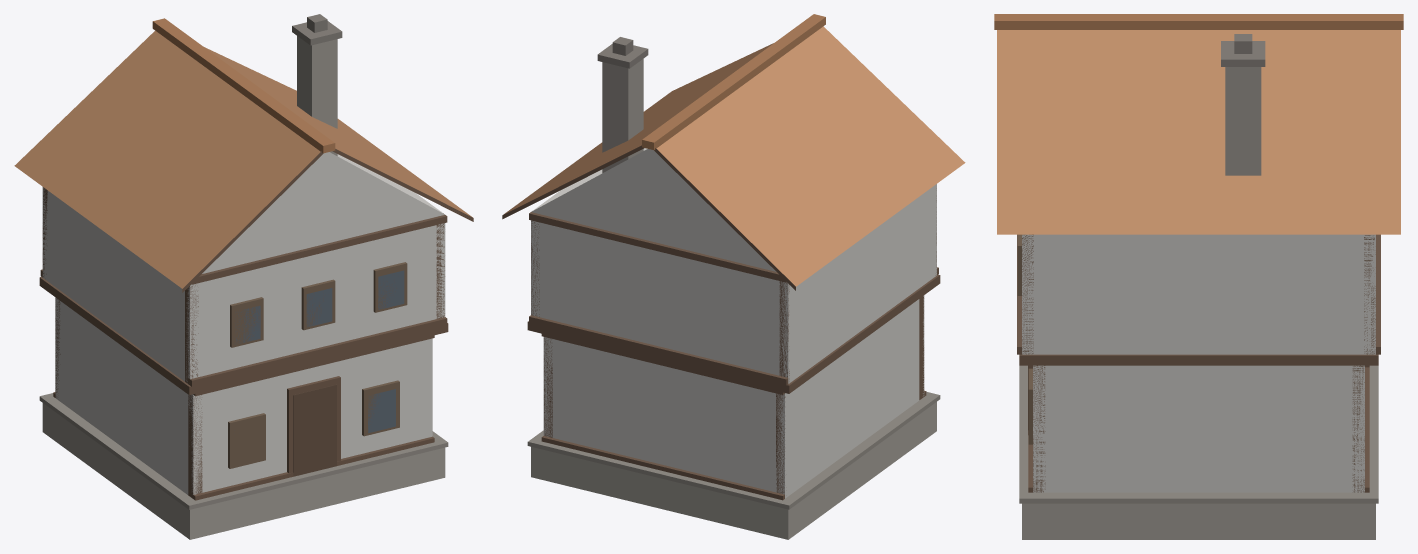
Rendered from house_m.glb.
3 views of the same model, side by side, from view 1: azimuth 30°, elevation 25°; view 2: azimuth 150°, elevation 25°; view 3: azimuth 270°, elevation 25° (orthographic). The views are drawn at different scales.
Size of the model in its own units: 7.3 by 9.6 by 7.4.
